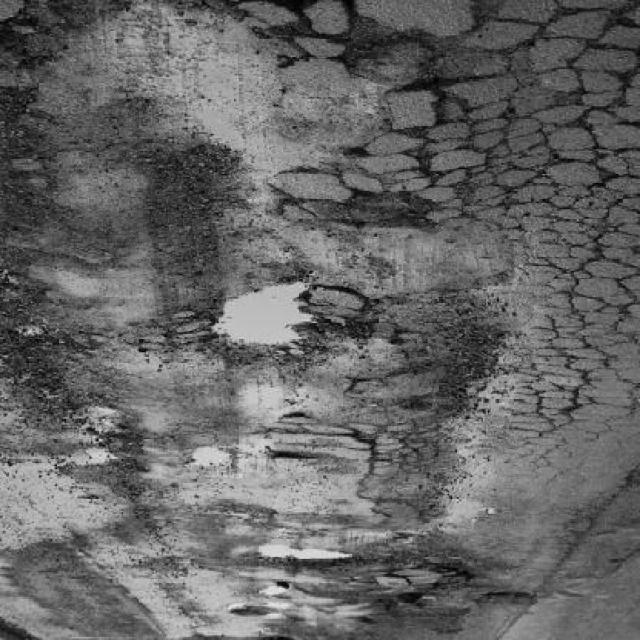pothole: (206, 277, 380, 374), (255, 538, 360, 570)
